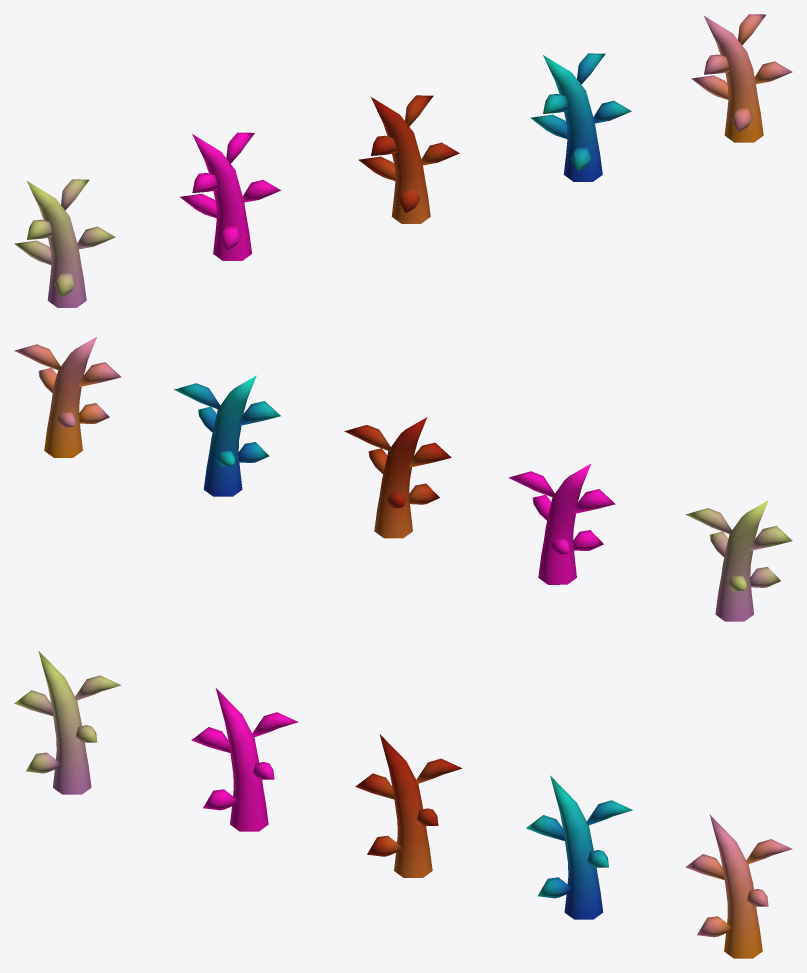
The model's file is Coral Reef Set2.glb.
The picture shows the model from 3 angles, top to bottom: view 1: azimuth 30°, elevation 25°; view 2: azimuth 150°, elevation 25°; view 3: azimuth 330°, elevation 25°; orthographic projection.
Parts seen in each view (by area): view 1: B_CoralReef.004, B_CoralReef.001, B_CoralReef.002, B_CoralReef.003, B_CoralReef; view 2: B_CoralReef.001, B_CoralReef.003, B_CoralReef.004, B_CoralReef, B_CoralReef.002; view 3: B_CoralReef.004, B_CoralReef.003, B_CoralReef, B_CoralReef.002, B_CoralReef.001.
Boxes of the visible parts, box(x1,y1,x2,y2) form: B_CoralReef.004: box(691, 14, 792, 142); B_CoralReef.001: box(358, 95, 459, 223); B_CoralReef.002: box(530, 53, 631, 181); B_CoralReef.003: box(180, 132, 280, 260); B_CoralReef: box(14, 179, 115, 307); B_CoralReef.001: box(344, 417, 451, 538); B_CoralReef.003: box(508, 464, 615, 584); B_CoralReef.004: box(14, 337, 121, 457); B_CoralReef: box(685, 500, 792, 621); B_CoralReef.002: box(174, 375, 280, 496); B_CoralReef.004: box(685, 814, 792, 958); B_CoralReef.003: box(191, 688, 298, 831); B_CoralReef: box(14, 651, 121, 794); B_CoralReef.002: box(526, 775, 632, 919); B_CoralReef.001: box(355, 734, 462, 877).
Bounding box in the file's own units: 6.66 × 1.06 × 0.7291.
Materials: 1 (1 with a texture image).
